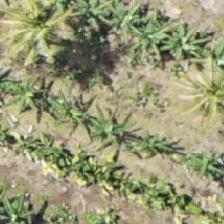coconut_tree: (164, 56, 223, 146), (0, 0, 80, 66)
